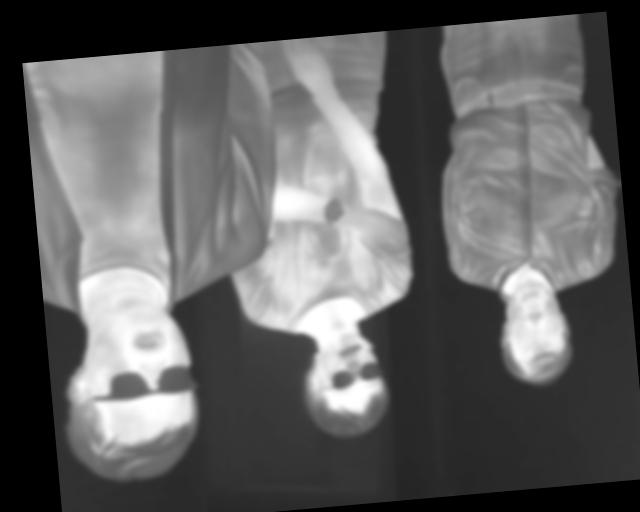face: (56, 296, 209, 489), (298, 327, 393, 444), (494, 278, 575, 388)
